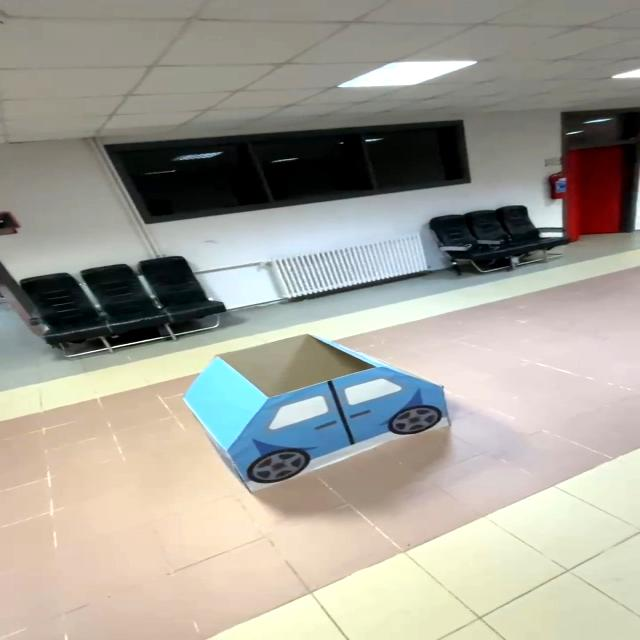blue_car: (165, 322, 491, 499)
